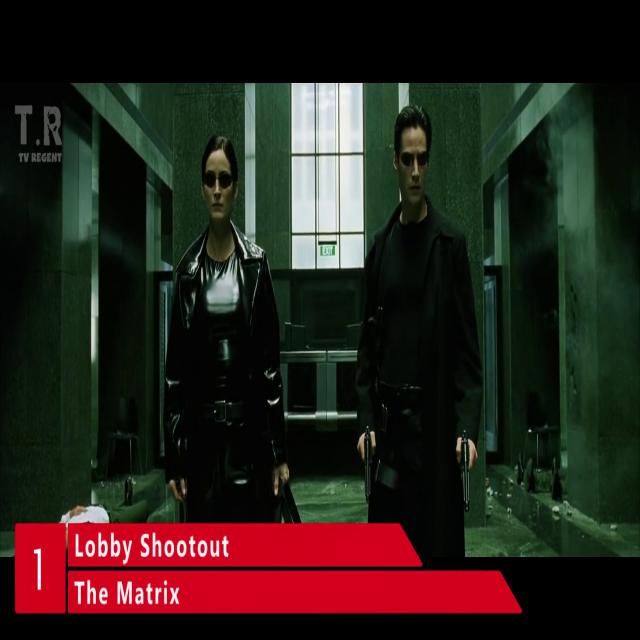handgun: (452, 414, 478, 520), (354, 422, 382, 509)
